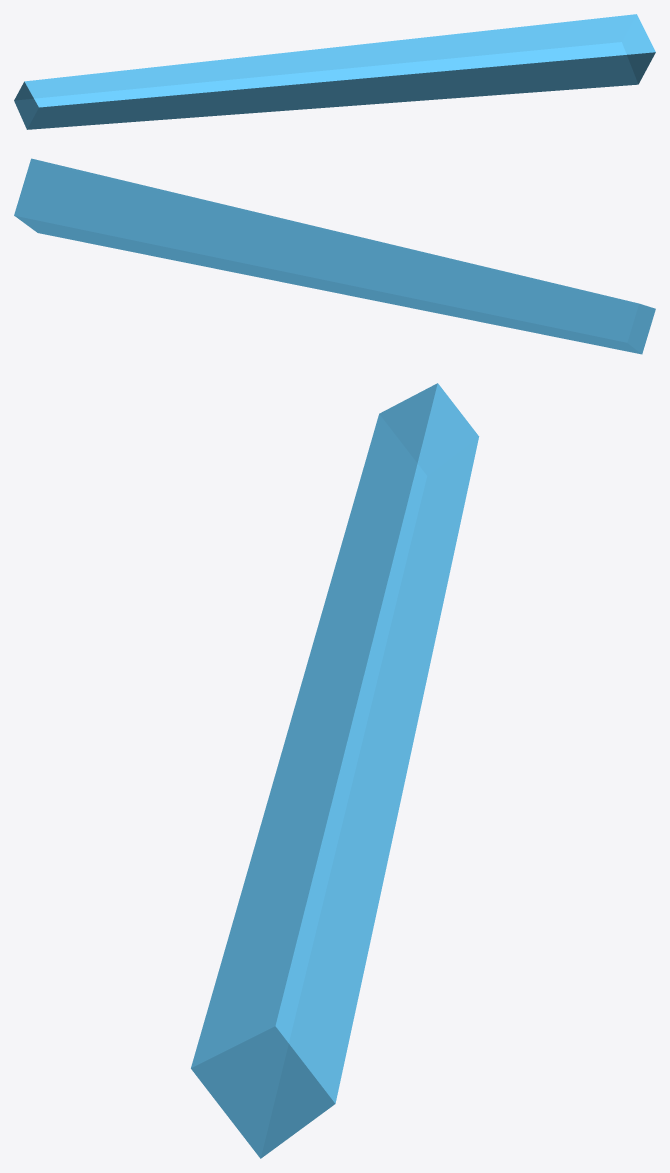
File: Event_421127236_HErechit_43.fbx
3 renders of one model, top to bottom at view 1: azimuth 30°, elevation 25°; view 2: azimuth 150°, elevation 25°; view 3: azimuth 270°, elevation 25°, orthographic. The views are drawn at different scales.
Parts seen in each view (by area): view 1: Model; view 2: Model; view 3: Model.
Part boxes in pixels (x1=…): Model: x1=14, y1=14, x2=655, y2=129; Model: x1=14, y1=158, x2=655, y2=354; Model: x1=191, y1=383, x2=479, y2=1158.
Size of the model in its own units: 5.02 by 0.9221 by 1.1.
